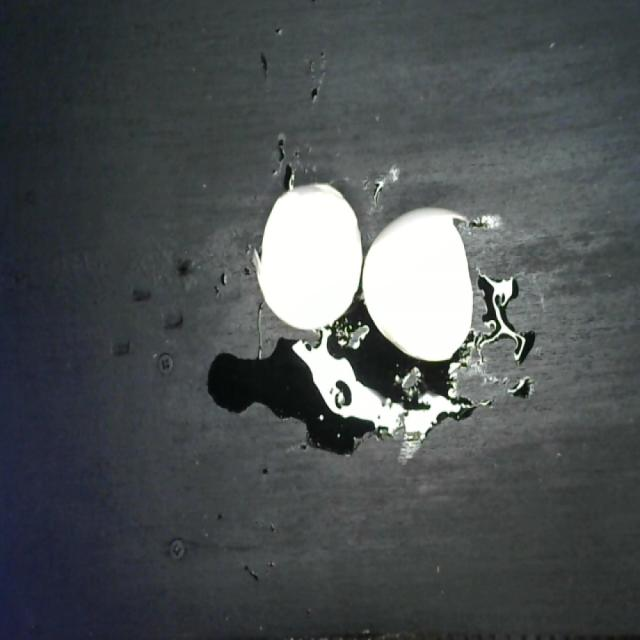biodegradable: (244, 170, 480, 376)
